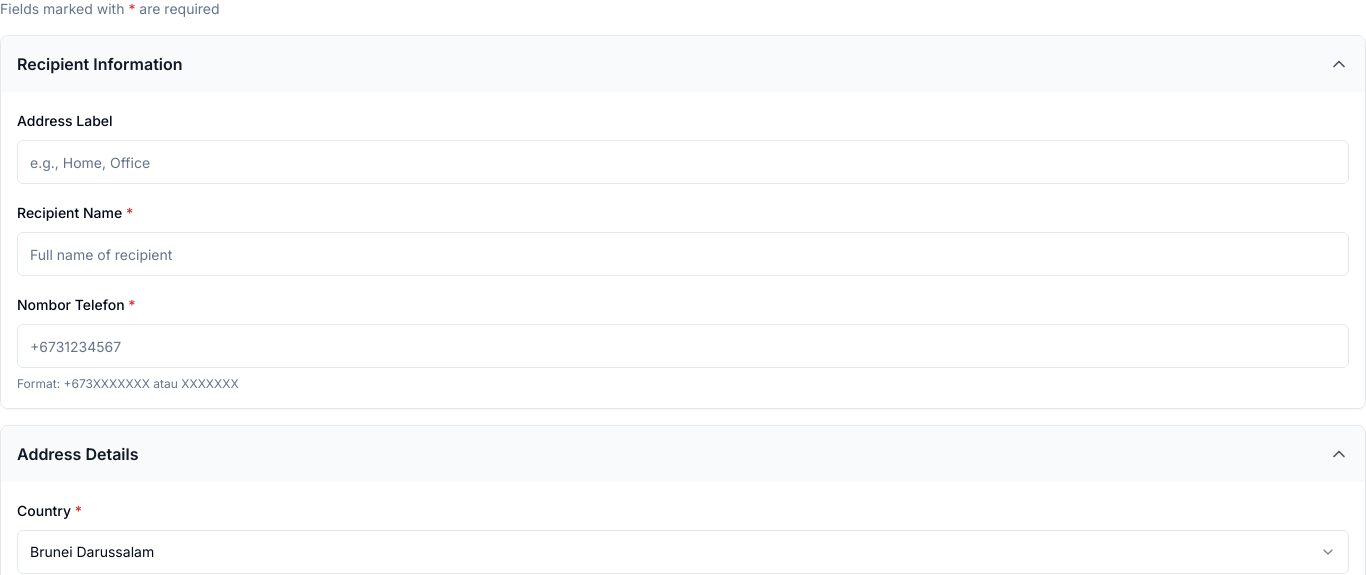
Test: AddressForm - Validation and Error Handling › Multiple error display - Requirement 12.3 › should display all validation errors simultaneously
This screenshot has width=1366, height=575.
Type "invalid" into the field labelled "Nombor Telefon *" at (683, 346), box [17, 324, 1349, 368]
(page scrolled)
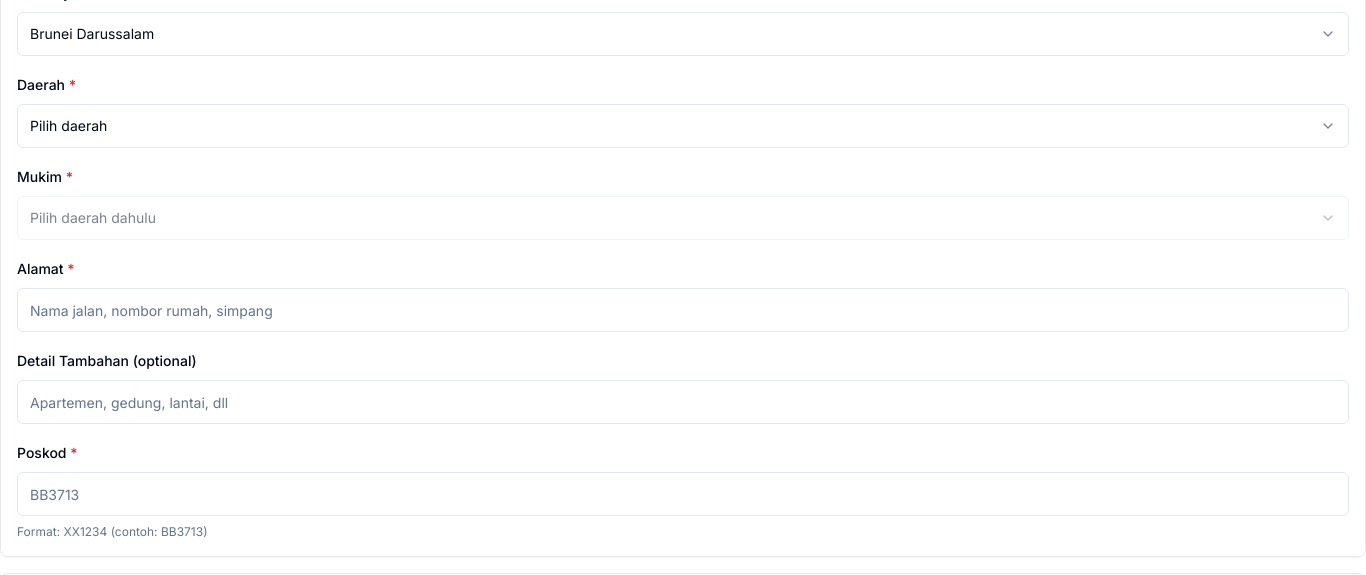
Type "123" into the field labelled "Poskod *" at (683, 494), box [17, 472, 1349, 516]
(page scrolled)
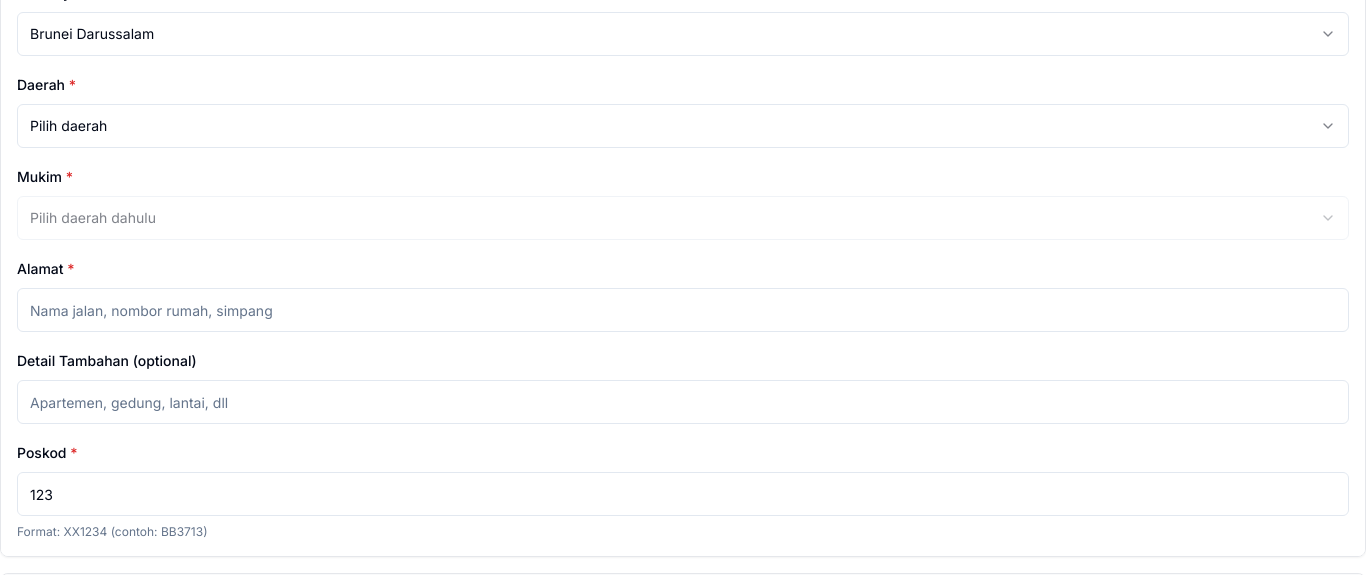
Leave the field labelled "Poskod *", box [17, 472, 1349, 516]
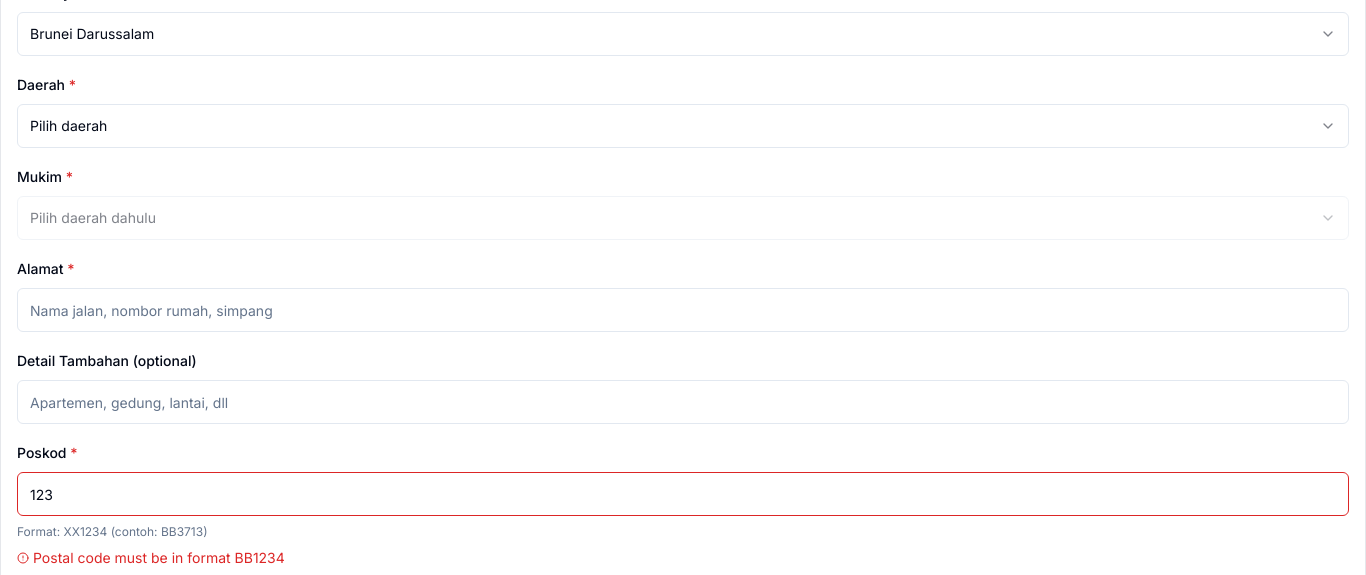
Expected: the text "Postal code must be in format BB1234" is shown, [17, 549, 285, 566]
